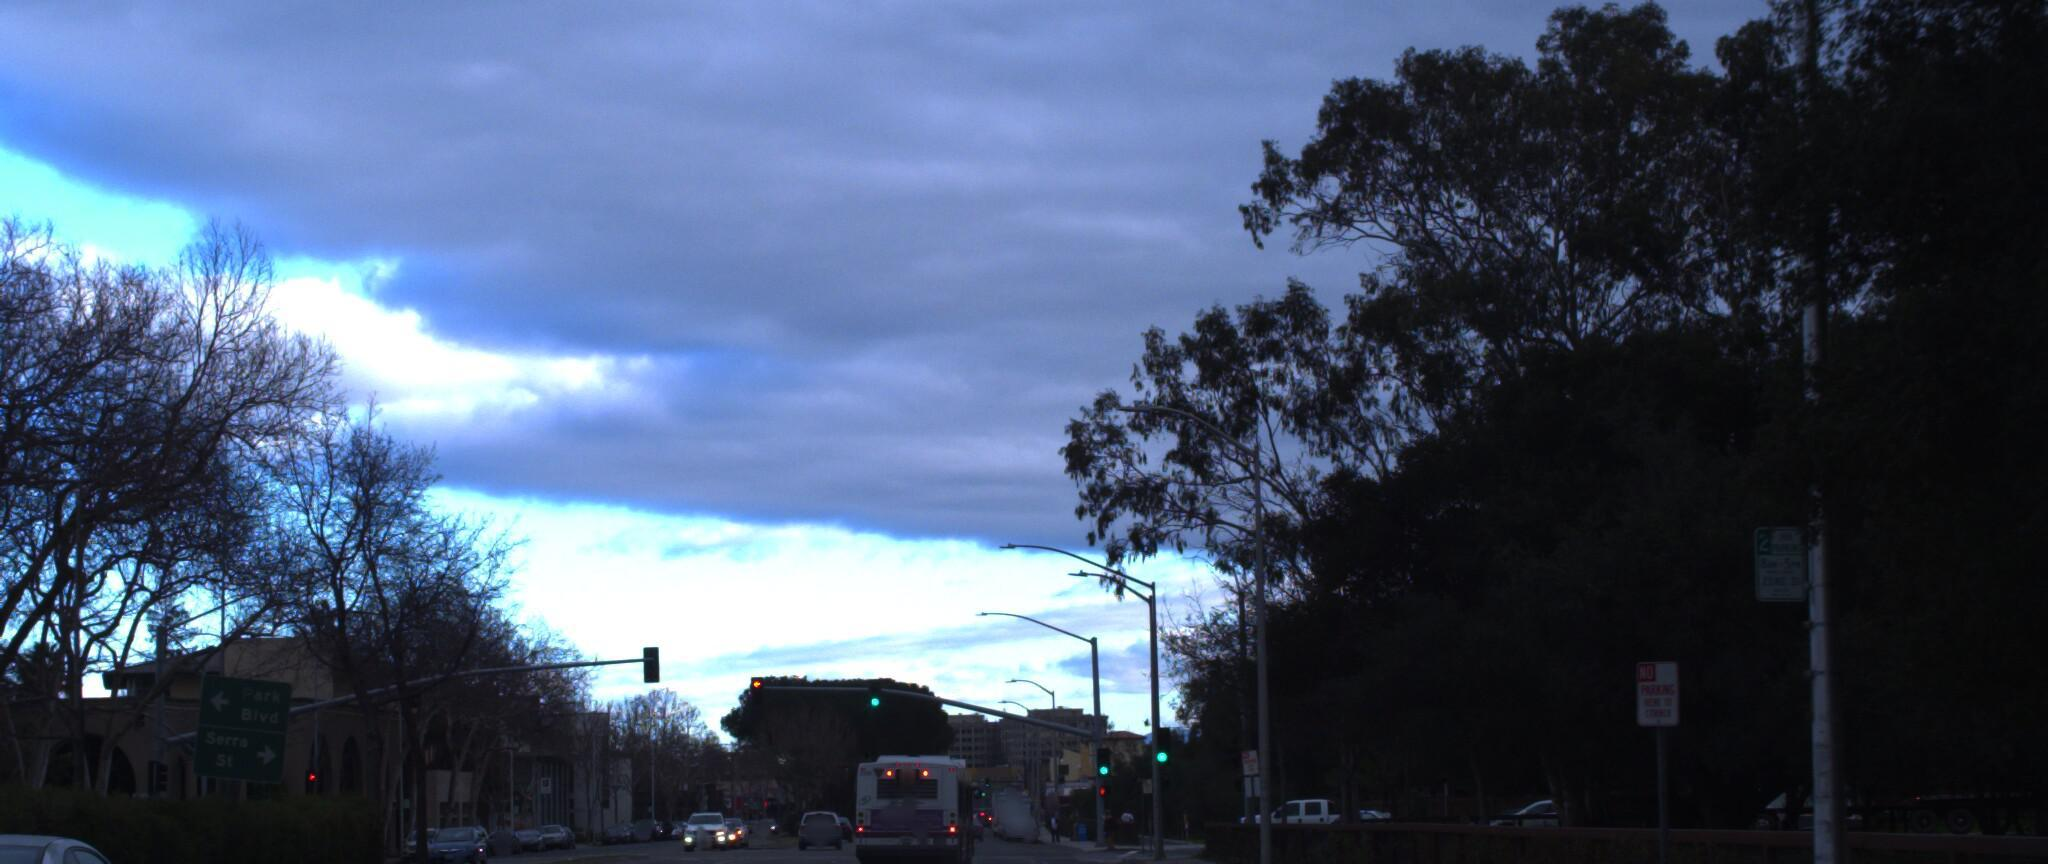bus: (836, 737, 957, 864)
car: (0, 820, 202, 864)
